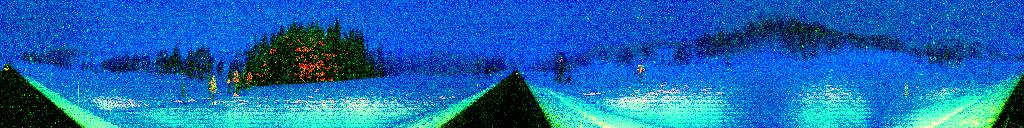pole: (76, 80, 80, 104)
